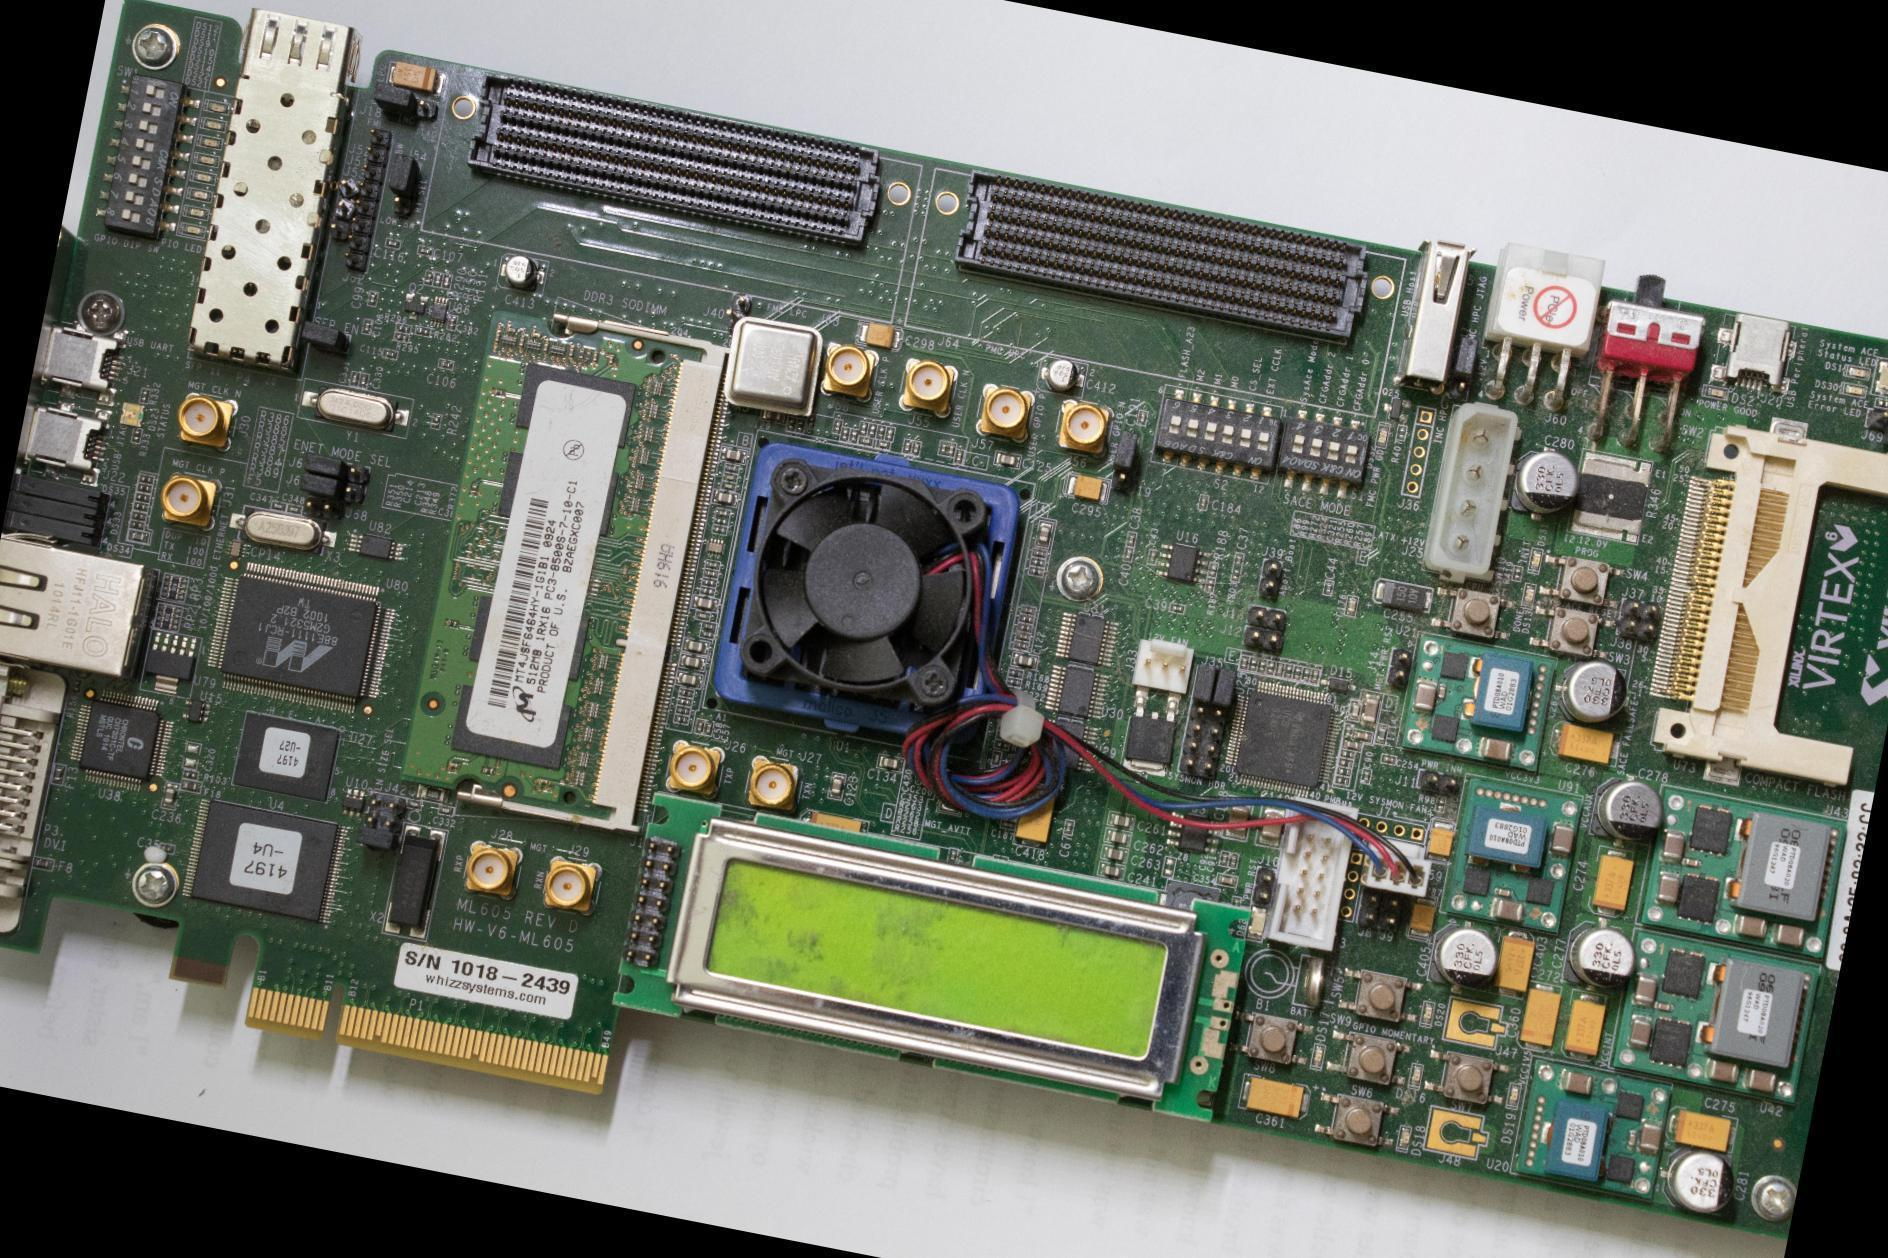Button: (1420, 1047, 1508, 1107), (1335, 966, 1423, 1025), (1313, 1090, 1399, 1149), (1429, 584, 1515, 642), (1538, 552, 1623, 608), (1528, 602, 1611, 659), (1325, 1029, 1410, 1084), (1235, 1009, 1312, 1066)
Capacitor: (1252, 799, 1288, 848), (1219, 795, 1254, 841), (1625, 1012, 1654, 1052), (1635, 1116, 1663, 1156), (1633, 972, 1662, 1010), (1488, 896, 1527, 924), (1702, 1056, 1741, 1084), (1731, 912, 1771, 939), (1658, 828, 1686, 866), (1546, 821, 1574, 859), (1653, 869, 1681, 907), (1476, 735, 1515, 762), (1739, 1065, 1778, 1092), (1769, 921, 1805, 949), (1410, 677, 1436, 714), (1559, 1068, 1595, 1094), (672, 668, 703, 690), (1034, 469, 1055, 500), (688, 592, 719, 613), (679, 635, 710, 656), (675, 651, 705, 672), (709, 487, 739, 507), (159, 780, 179, 810), (992, 449, 1021, 469), (718, 445, 747, 465), (1106, 809, 1134, 829), (1103, 826, 1131, 846), (874, 754, 903, 773), (827, 768, 846, 797), (1010, 651, 1038, 670), (1100, 844, 1128, 863), (1096, 860, 1124, 879), (1342, 592, 1359, 616), (1214, 872, 1237, 888), (225, 539, 244, 558), (760, 409, 784, 422), (363, 288, 378, 308), (1654, 999, 1675, 1012), (1624, 1129, 1637, 1150), (435, 356, 454, 370), (997, 817, 1016, 831), (382, 236, 402, 249), (1681, 855, 1701, 868), (414, 243, 433, 256), (358, 370, 371, 389), (1377, 753, 1396, 766), (157, 841, 176, 854), (1508, 883, 1528, 895), (1232, 550, 1245, 568), (693, 716, 706, 734), (437, 804, 455, 817), (1196, 493, 1208, 512), (360, 318, 373, 335), (286, 503, 303, 516), (1359, 767, 1372, 784), (1321, 579, 1333, 597), (1135, 408, 1147, 425), (445, 313, 457, 330), (348, 370, 360, 387), (1317, 669, 1329, 686), (381, 347, 397, 359), (1125, 531, 1137, 547), (1148, 546, 1160, 562), (1122, 546, 1134, 562), (270, 500, 286, 512), (1062, 818, 1074, 834), (1217, 851, 1229, 867), (1226, 852, 1238, 868), (1273, 661, 1284, 678), (703, 719, 714, 736), (407, 798, 421, 808)
Connector: (1636, 403, 1887, 809), (429, 60, 922, 260), (916, 157, 1403, 354), (182, 6, 363, 376), (0, 652, 86, 951), (852, 585, 992, 764), (0, 534, 161, 683), (1420, 396, 1526, 589), (1260, 802, 1354, 957), (1395, 234, 1473, 396), (20, 396, 111, 487), (38, 315, 128, 407), (620, 834, 680, 970), (341, 125, 395, 273), (1708, 308, 1798, 393), (1128, 636, 1193, 715), (1360, 834, 1434, 896), (170, 389, 239, 453), (155, 468, 223, 532), (539, 853, 602, 919), (817, 340, 881, 404), (895, 356, 959, 420), (1050, 396, 1114, 460), (460, 837, 523, 902), (662, 737, 725, 801), (972, 380, 1035, 443), (743, 753, 804, 815), (1176, 703, 1225, 778), (1400, 404, 1437, 497), (1239, 604, 1288, 651), (1354, 885, 1403, 931), (1336, 845, 1365, 922), (1354, 815, 1427, 843), (1614, 596, 1660, 640), (363, 791, 407, 831), (1385, 652, 1416, 695), (340, 462, 370, 506), (1416, 768, 1461, 797), (1247, 865, 1275, 910), (297, 495, 343, 522), (1255, 557, 1283, 599), (725, 292, 752, 331), (326, 214, 352, 242), (333, 174, 361, 199), (331, 194, 357, 220), (411, 95, 437, 120), (1863, 405, 1887, 431), (389, 193, 414, 216), (1108, 468, 1131, 492)
Diode: (1319, 675, 1357, 694)
Electrolytic Capacitor: (1561, 912, 1642, 998), (1504, 442, 1585, 527), (1653, 1143, 1739, 1217), (1589, 771, 1668, 848), (1554, 656, 1633, 731), (1427, 919, 1502, 994), (1584, 843, 1636, 918), (1664, 1105, 1737, 1154), (1559, 989, 1608, 1061), (1515, 980, 1563, 1053), (1238, 1073, 1311, 1120), (1548, 719, 1620, 766), (1490, 926, 1537, 998), (1010, 780, 1057, 850), (1038, 353, 1101, 401), (1377, 577, 1439, 613), (495, 252, 547, 294), (385, 58, 445, 94), (406, 255, 457, 288), (1061, 471, 1110, 504), (1423, 816, 1456, 864), (1405, 894, 1437, 943)
IC: (702, 441, 1032, 771), (205, 559, 399, 717), (179, 798, 350, 925), (1220, 677, 1344, 798), (1721, 806, 1833, 923), (1697, 952, 1807, 1070), (230, 709, 341, 802), (1570, 943, 1645, 1031), (139, 627, 201, 698), (1054, 609, 1119, 667), (1044, 661, 1108, 719), (1036, 716, 1099, 773), (1164, 811, 1222, 854), (1646, 1015, 1693, 1068), (1687, 804, 1733, 858), (1154, 540, 1210, 584), (1659, 946, 1704, 996), (1676, 874, 1719, 925), (346, 530, 407, 563), (1612, 1088, 1644, 1121), (1460, 866, 1492, 897), (1604, 1152, 1635, 1184), (1441, 644, 1471, 675), (1429, 712, 1459, 742), (1523, 876, 1553, 906), (180, 697, 212, 724), (339, 787, 365, 818), (429, 295, 449, 328)
Led: (2, 471, 113, 550), (116, 400, 144, 428), (1869, 356, 1887, 398), (193, 131, 225, 152), (201, 97, 231, 116), (187, 168, 216, 187), (190, 151, 220, 169), (182, 202, 210, 221), (1307, 1041, 1326, 1069), (1404, 1061, 1423, 1089), (184, 185, 213, 203), (177, 220, 206, 238), (1526, 545, 1544, 574), (1418, 999, 1436, 1028), (1394, 1124, 1412, 1153), (198, 115, 227, 133), (1503, 1082, 1520, 1110), (1374, 421, 1391, 448), (1839, 381, 1866, 398), (1842, 364, 1870, 380), (1702, 384, 1728, 400), (1521, 582, 1536, 608)
Pads: (243, 985, 609, 1095), (1441, 995, 1510, 1053), (1422, 1103, 1491, 1159), (179, 740, 201, 770), (1160, 855, 1176, 878)
Resistor: (158, 571, 189, 602), (153, 601, 184, 632), (416, 783, 448, 802), (626, 496, 642, 514), (650, 378, 665, 397), (548, 341, 565, 357), (631, 472, 645, 491), (585, 701, 599, 720), (524, 337, 541, 352), (641, 426, 656, 443), (636, 448, 651, 465), (573, 770, 588, 787), (1393, 423, 1407, 441), (646, 402, 660, 420), (440, 271, 453, 290), (1264, 659, 1277, 678), (499, 333, 516, 347), (575, 750, 589, 767), (392, 330, 410, 343), (1510, 563, 1523, 581), (595, 652, 608, 670), (70, 677, 83, 695), (429, 411, 442, 428), (590, 679, 603, 696), (581, 726, 594, 743), (136, 473, 154, 485), (134, 483, 152, 495), (131, 501, 149, 513), (127, 518, 145, 530), (1291, 660, 1302, 679), (422, 269, 434, 286), (413, 324, 430, 336), (1207, 561, 1219, 578), (1201, 594, 1213, 611), (130, 426, 142, 443), (133, 491, 150, 503), (130, 509, 147, 521), (1434, 795, 1446, 812), (181, 769, 198, 781), (1255, 657, 1266, 675), (1873, 396, 1887, 410), (1247, 656, 1258, 673), (432, 270, 442, 288), (395, 321, 410, 333), (138, 387, 149, 403), (1007, 666, 1023, 677), (1298, 665, 1308, 682), (1283, 664, 1293, 680), (1005, 677, 1020, 686)
Switch: (1695, 286, 1829, 477), (1150, 383, 1284, 484), (1271, 406, 1374, 501)
Transistor: (1119, 709, 1177, 777), (1379, 395, 1410, 421)
